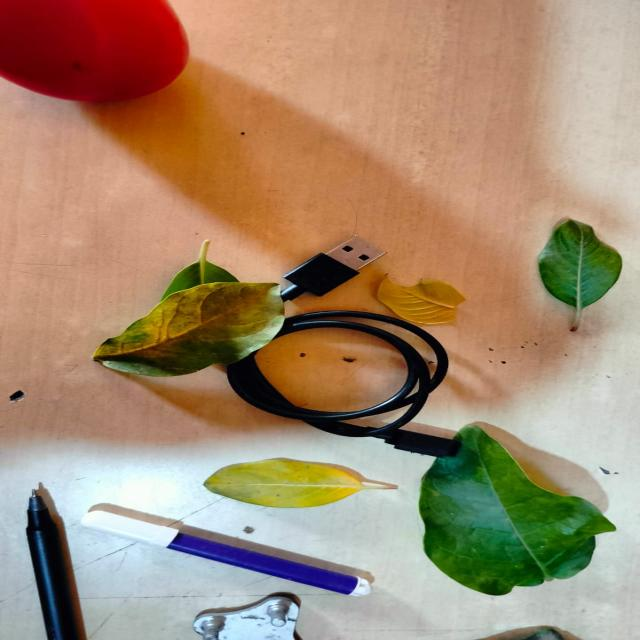Leaves: (415, 424, 617, 598), (93, 283, 289, 378), (201, 458, 395, 511), (533, 219, 623, 333), (377, 269, 470, 328)
Metal: (186, 593, 304, 640)
Pen: (82, 504, 376, 599), (31, 486, 90, 640)
